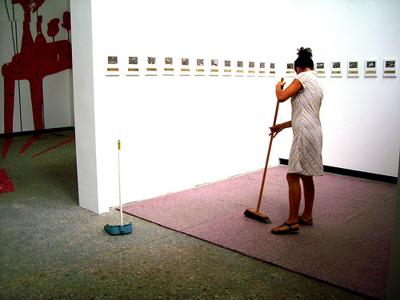person: (268, 47, 324, 237)
